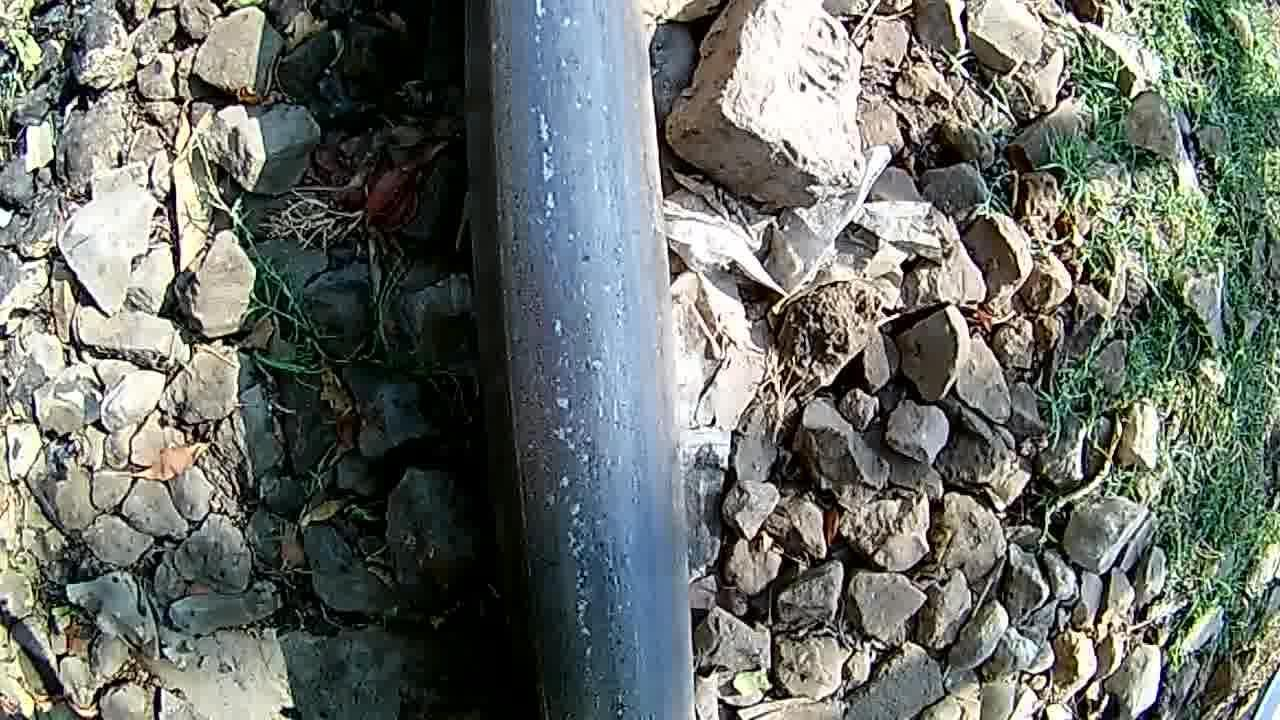crack: (490, 0, 676, 720)
